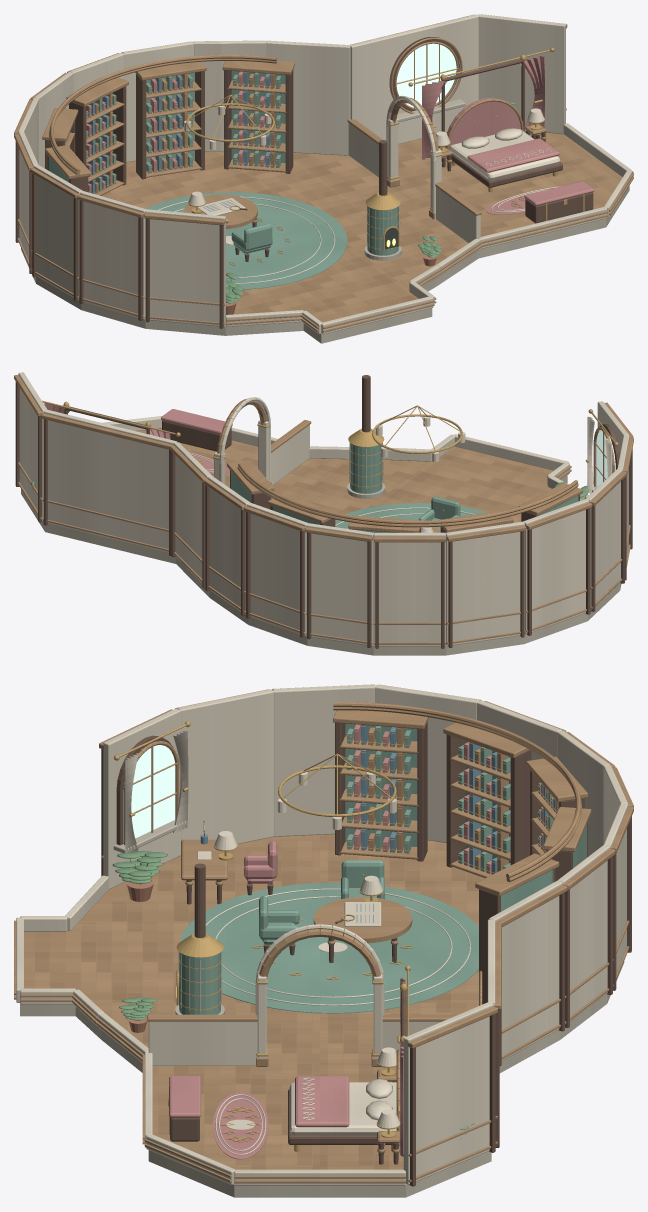
The model's file is neighbor2-interior.glb.
3 renders of one model, top to bottom at view 1: azimuth 30°, elevation 25°; view 2: azimuth 150°, elevation 25°; view 3: azimuth 270°, elevation 25°, orthographic. The views are drawn at different scales.
Parts seen in each view (by area): view 1: Forest hamlet; view 2: Forest hamlet; view 3: Forest hamlet.
Boxes of the visible parts, left/top/right/bottom form: Forest hamlet: left=14, top=14, right=633, bottom=343; Forest hamlet: left=14, top=372, right=633, bottom=655; Forest hamlet: left=14, top=684, right=633, bottom=1197.
Size of the model in its own units: 19.88 by 5.36 by 14.46.
Materials: 18 (18 with a texture image).
